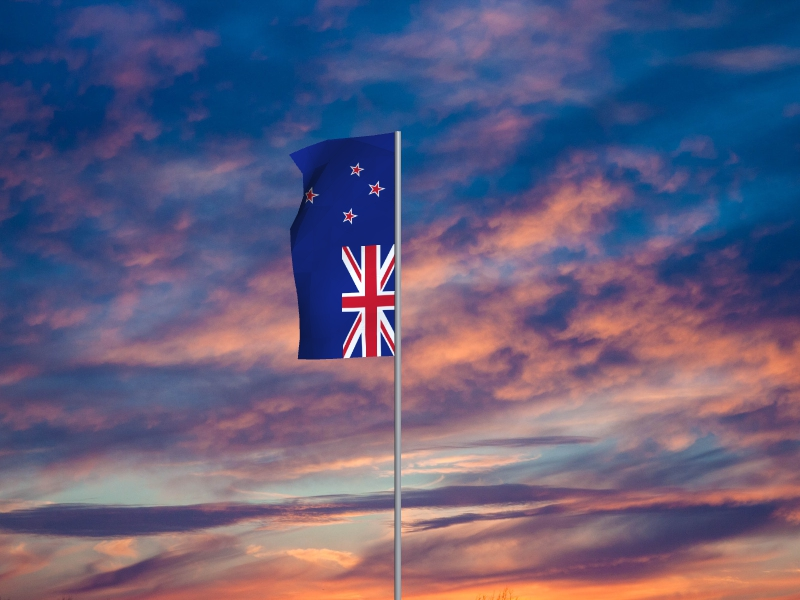nz: (289, 133, 395, 361)
